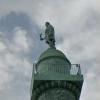Statue: (27, 10, 69, 72)
